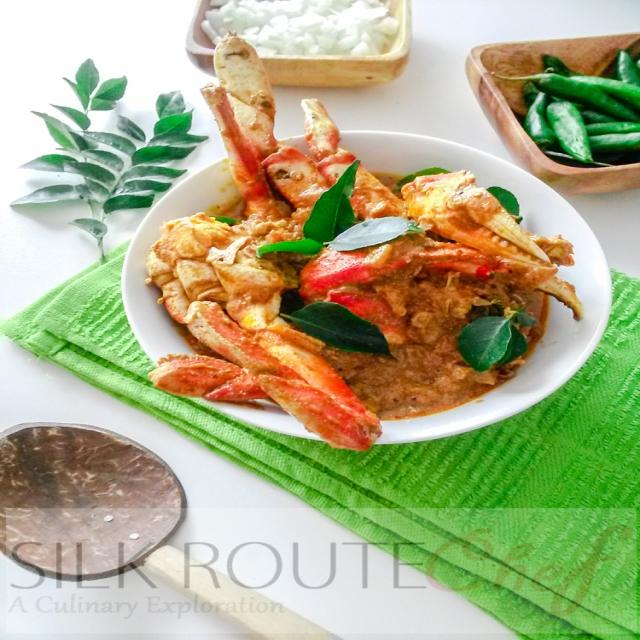nandu masala: (138, 50, 567, 409)
